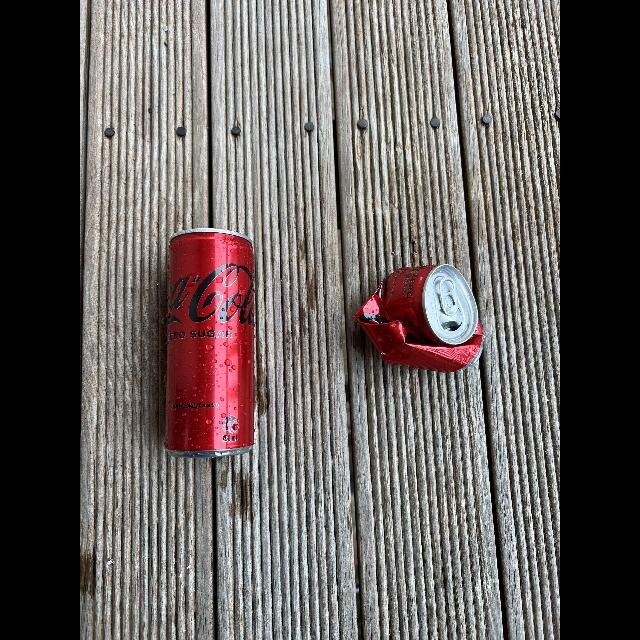aba de lata: (439, 276, 459, 316)
lata: (164, 227, 256, 459), (354, 264, 484, 372)
